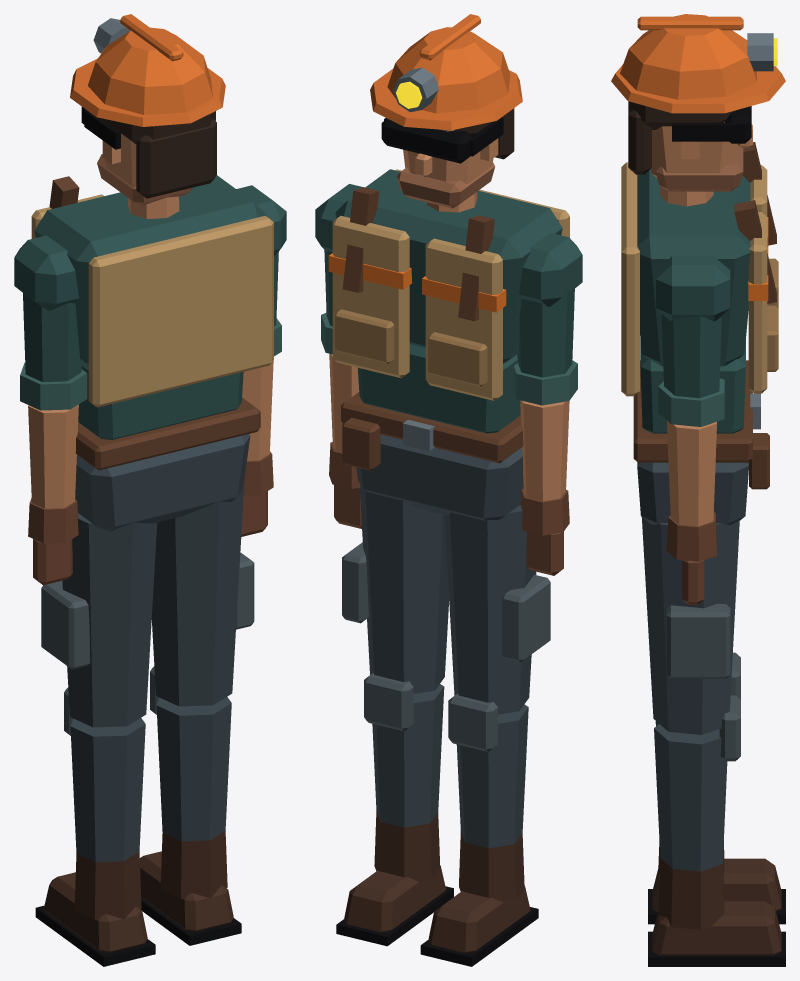
The model's file is Worker.fbx.
3 views of the same model, side by side, from view 1: azimuth 30°, elevation 25°; view 2: azimuth 150°, elevation 25°; view 3: azimuth 270°, elevation 25° (orthographic). The views are drawn at different scales.
Visible parts, largest first — view 1: Chest, Head, Thigh.L, Thigh.R, Hips, Shin.R, Shin.L, Foot.L, Foot.R, Forearm.L, UpperArm.L, Forearm.R (+2 smaller); view 2: Chest, Head, Thigh.L, Thigh.R, Hips, Shin.L, Shin.R, Foot.L, Foot.R, Forearm.L, UpperArm.L, Forearm.R (+3 smaller); view 3: Chest, Head, Thigh.R, Foot.R, Shin.R, Hips, UpperArm.R, Forearm.R, Foot.L, Hand.R, Shin.L.
Boxes of the visible parts, box(x1,y1,x2,y2) form: Chest: box(14, 175, 286, 439); Head: box(70, 14, 225, 218); Thigh.L: box(41, 513, 157, 727); Thigh.R: box(151, 485, 254, 706); Hips: box(75, 397, 260, 531); Shin.R: box(150, 666, 231, 841); Shin.L: box(64, 687, 145, 862); Foot.L: box(35, 851, 155, 966); Foot.R: box(139, 831, 241, 945); Forearm.L: box(28, 404, 78, 543); UpperArm.L: box(20, 292, 87, 410); Forearm.R: box(242, 360, 273, 495); Chest: box(315, 169, 582, 433); Head: box(370, 14, 522, 212); Thigh.L: box(444, 505, 550, 714); Thigh.R: box(342, 484, 449, 693); Hips: box(341, 392, 523, 520); Shin.L: box(448, 693, 528, 848); Shin.R: box(364, 673, 444, 827); Foot.L: box(420, 831, 538, 966); Foot.R: box(336, 811, 453, 946); Forearm.L: box(520, 400, 569, 535); UpperArm.L: box(513, 288, 577, 405); Forearm.R: box(329, 353, 360, 488); Chest: box(621, 142, 778, 433); Head: box(611, 14, 785, 206); Thigh.R: box(641, 517, 739, 734); Foot.R: box(648, 858, 785, 966); Shin.R: box(654, 695, 740, 871); Hips: box(633, 360, 769, 525); UpperArm.R: box(658, 314, 724, 426); Forearm.R: box(666, 420, 716, 561); Foot.L: box(648, 841, 785, 924); Hand.R: box(682, 560, 704, 604); Shin.L: box(655, 652, 740, 725).
Size of the model in its own units: 0.5587 by 0.33 by 1.9.
